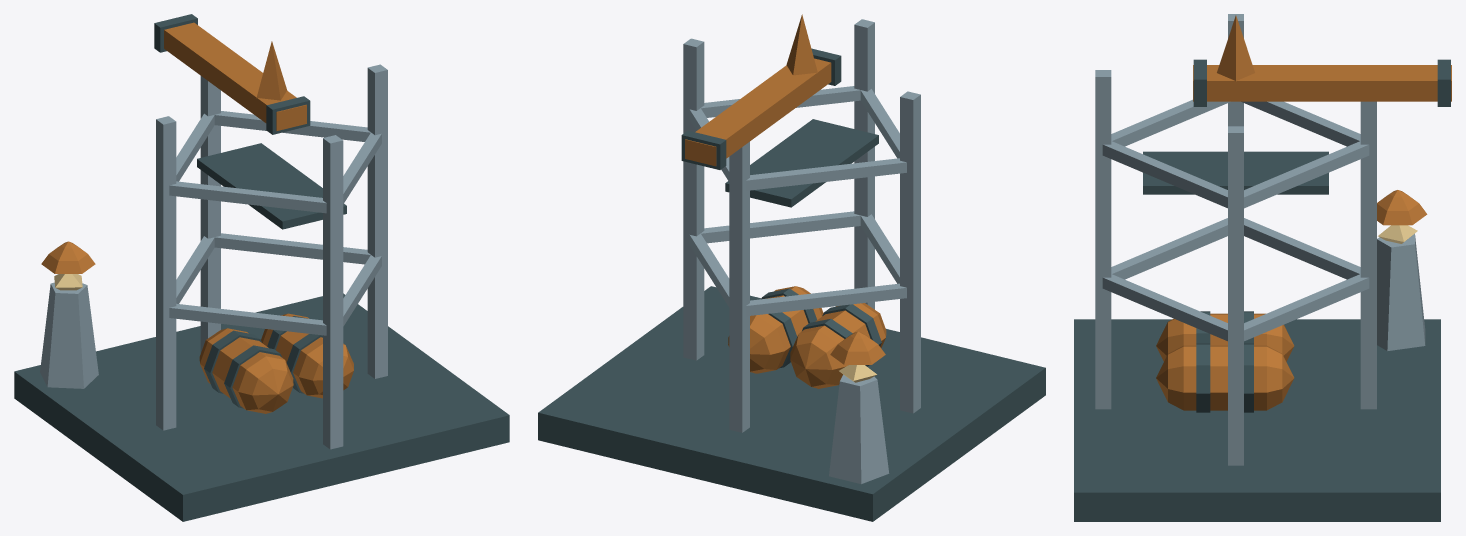
Rendered from cradle.gltf.
3 views of the same model, side by side, from view 1: azimuth 30°, elevation 25°; view 2: azimuth 150°, elevation 25°; view 3: azimuth 270°, elevation 25° (orthographic). The views are drawn at different scales.
Visible parts, largest first — view 1: floor, frame, parts, hoist, lamp; view 2: floor, frame, parts, hoist, lamp; view 3: floor, frame, hoist, parts, lamp.
Part boxes in pixels (bbox=[...]): floor: bbox=[14, 293, 509, 521]; frame: bbox=[156, 41, 387, 449]; parts: bbox=[199, 313, 353, 413]; hoist: bbox=[154, 14, 310, 134]; lamp: bbox=[40, 241, 98, 388]; floor: bbox=[538, 286, 1045, 521]; frame: bbox=[683, 14, 920, 432]; parts: bbox=[728, 286, 886, 388]; hoist: bbox=[681, 48, 841, 169]; lamp: bbox=[829, 331, 889, 484]; floor: bbox=[1074, 319, 1440, 521]; frame: bbox=[1095, 14, 1376, 465]; hoist: bbox=[1193, 59, 1451, 106]; parts: bbox=[1156, 311, 1294, 412]; lamp: bbox=[1377, 190, 1427, 350].
Bounding box in the file's own units: 3.8 × 4.3 × 3.5.
